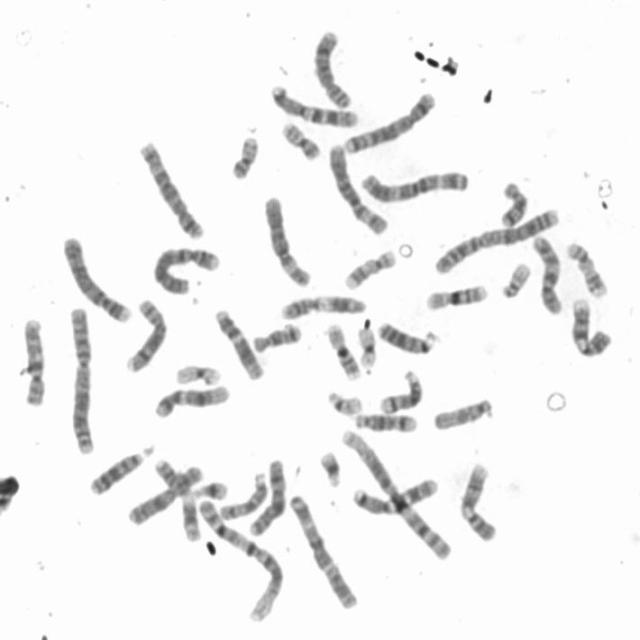A1: (336, 422, 454, 561), (193, 494, 285, 624)
A2: (430, 203, 562, 275), (64, 299, 98, 456)
A3: (283, 489, 360, 612), (356, 163, 471, 205)
B4: (58, 230, 134, 325), (150, 240, 223, 296)
B5: (134, 135, 207, 241), (339, 86, 438, 155)
C10: (528, 229, 566, 316), (17, 313, 49, 408)
C11: (150, 454, 203, 544), (276, 289, 369, 321)
C12: (210, 304, 268, 382), (150, 379, 232, 420)
C6: (326, 138, 392, 235), (258, 191, 314, 288)
C7: (266, 79, 362, 129), (348, 470, 442, 517)
C8: (308, 24, 354, 110), (122, 294, 170, 374)
C9: (455, 456, 500, 543), (566, 293, 614, 358)
D13: (86, 441, 155, 496), (374, 315, 441, 356)
D14: (376, 365, 425, 415), (349, 406, 420, 434)
D15: (216, 467, 270, 522), (429, 392, 497, 432)
E16: (322, 317, 364, 381), (421, 278, 490, 312)
E17: (562, 237, 610, 300), (339, 244, 398, 291)
E18: (248, 318, 304, 355), (495, 175, 530, 229)
F19: (172, 358, 224, 388), (354, 321, 378, 369)
F20: (276, 116, 322, 162), (227, 130, 262, 181)
G21: (316, 445, 345, 488), (187, 475, 230, 501)
G22: (496, 256, 534, 300), (323, 384, 365, 418)
X: (123, 459, 204, 527), (246, 452, 290, 538)
